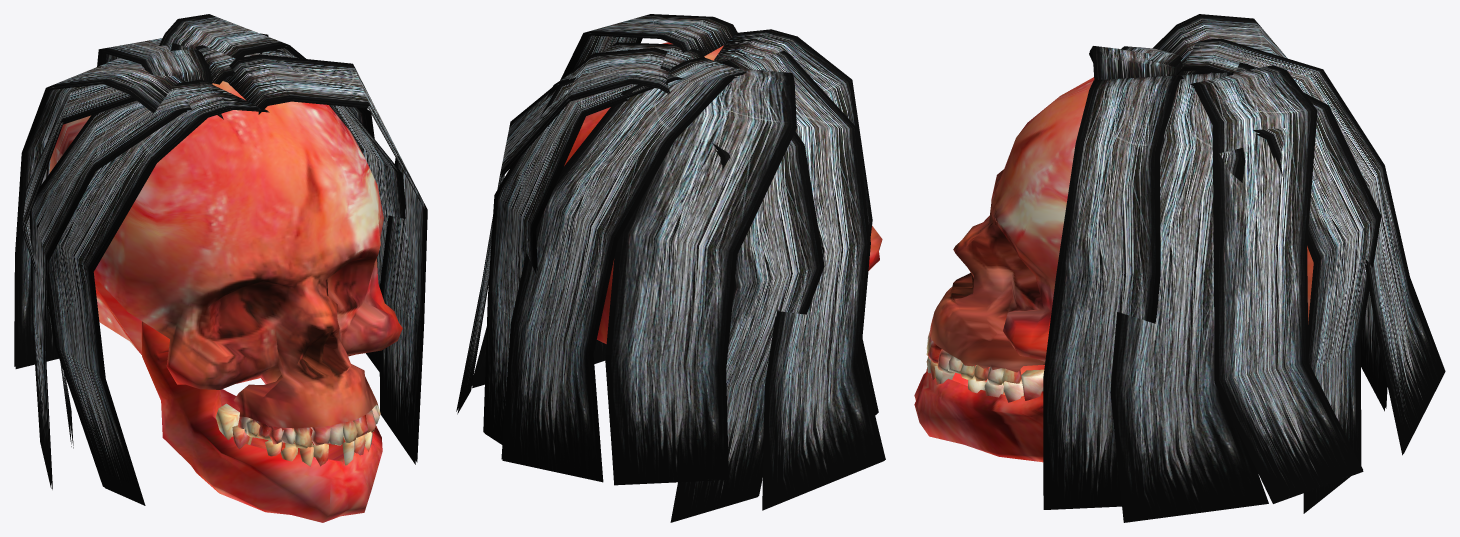
The model's file is female_head_noneck-03.fbx.
The picture shows the model from 3 angles, left to right: view 1: azimuth 30°, elevation 25°; view 2: azimuth 150°, elevation 25°; view 3: azimuth 270°, elevation 25°; orthographic projection.
Visible parts, largest first — view 1: fm_head7; view 2: fm_head7; view 3: fm_head7.
Boxes of the visible parts, <box> form: fm_head7: <box>14,14,427,522</box>; fm_head7: <box>456,14,885,522</box>; fm_head7: <box>914,14,1445,522</box>.
Size of the model in its own units: 0.2395 by 0.2509 by 0.3044.
